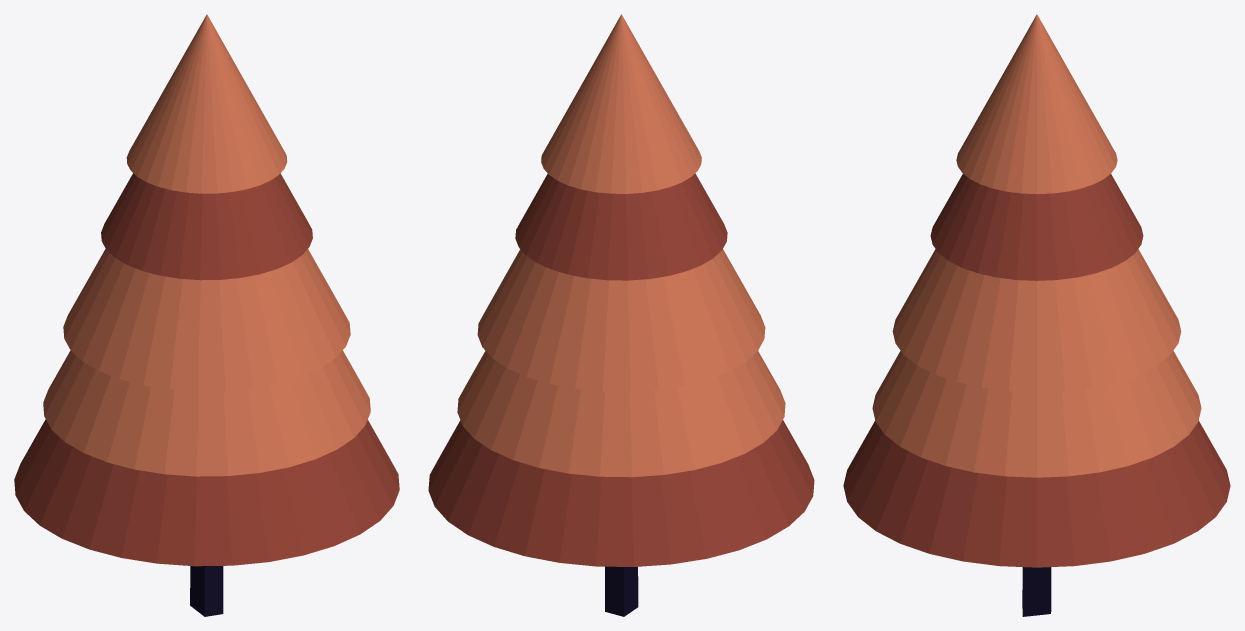
File: arvore2.glb
3 views of the same model, side by side, from view 1: azimuth 30°, elevation 25°; view 2: azimuth 150°, elevation 25°; view 3: azimuth 270°, elevation 25° (orthographic).
Visible parts, largest first — view 1: Cone, Cone.002, Cone.001, Cone.003, Cone.004, Cube; view 2: Cone, Cone.002, Cone.001, Cone.003, Cone.004, Cube; view 3: Cone, Cone.002, Cone.001, Cone.003, Cone.004, Cube.
Part boxes in pixels (x1,y1,x2,y2): Cone: [14, 419, 399, 566]; Cone.002: [63, 248, 350, 391]; Cone.001: [43, 350, 370, 476]; Cone.003: [101, 173, 312, 280]; Cone.004: [126, 14, 287, 193]; Cube: [190, 566, 223, 616]; Cone: [428, 420, 814, 566]; Cone.002: [477, 249, 765, 391]; Cone.001: [457, 351, 785, 477]; Cone.003: [515, 173, 727, 280]; Cone.004: [541, 14, 701, 193]; Cube: [605, 566, 638, 616]; Cone: [843, 420, 1230, 567]; Cone.002: [892, 249, 1181, 392]; Cone.001: [872, 351, 1201, 477]; Cone.003: [930, 174, 1143, 280]; Cone.004: [956, 14, 1117, 194]; Cube: [1022, 567, 1051, 616].
Bounding box in the file's own units: 2 × 3.41 × 2.
